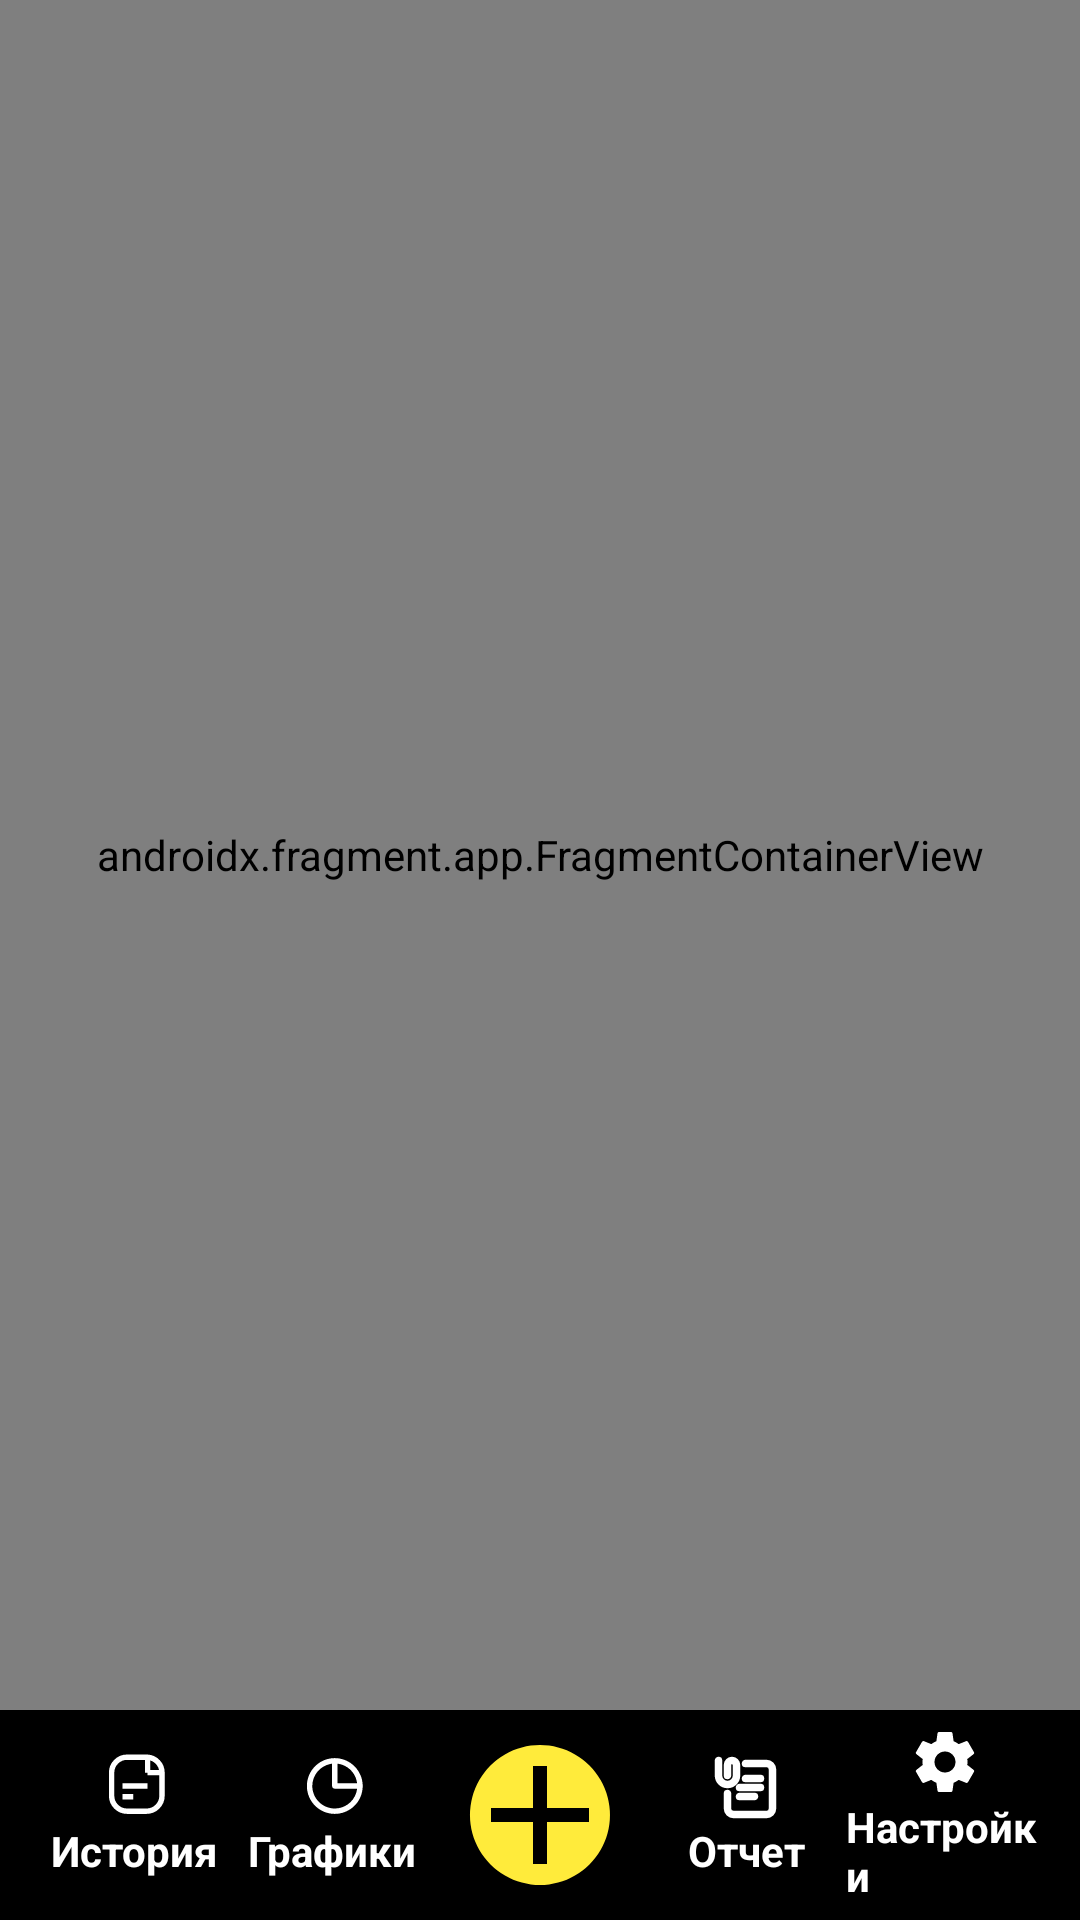

Point at icon controls on the screen. Image size 1080px×1920px, points as (x,y).
add operation: (540,1815)
